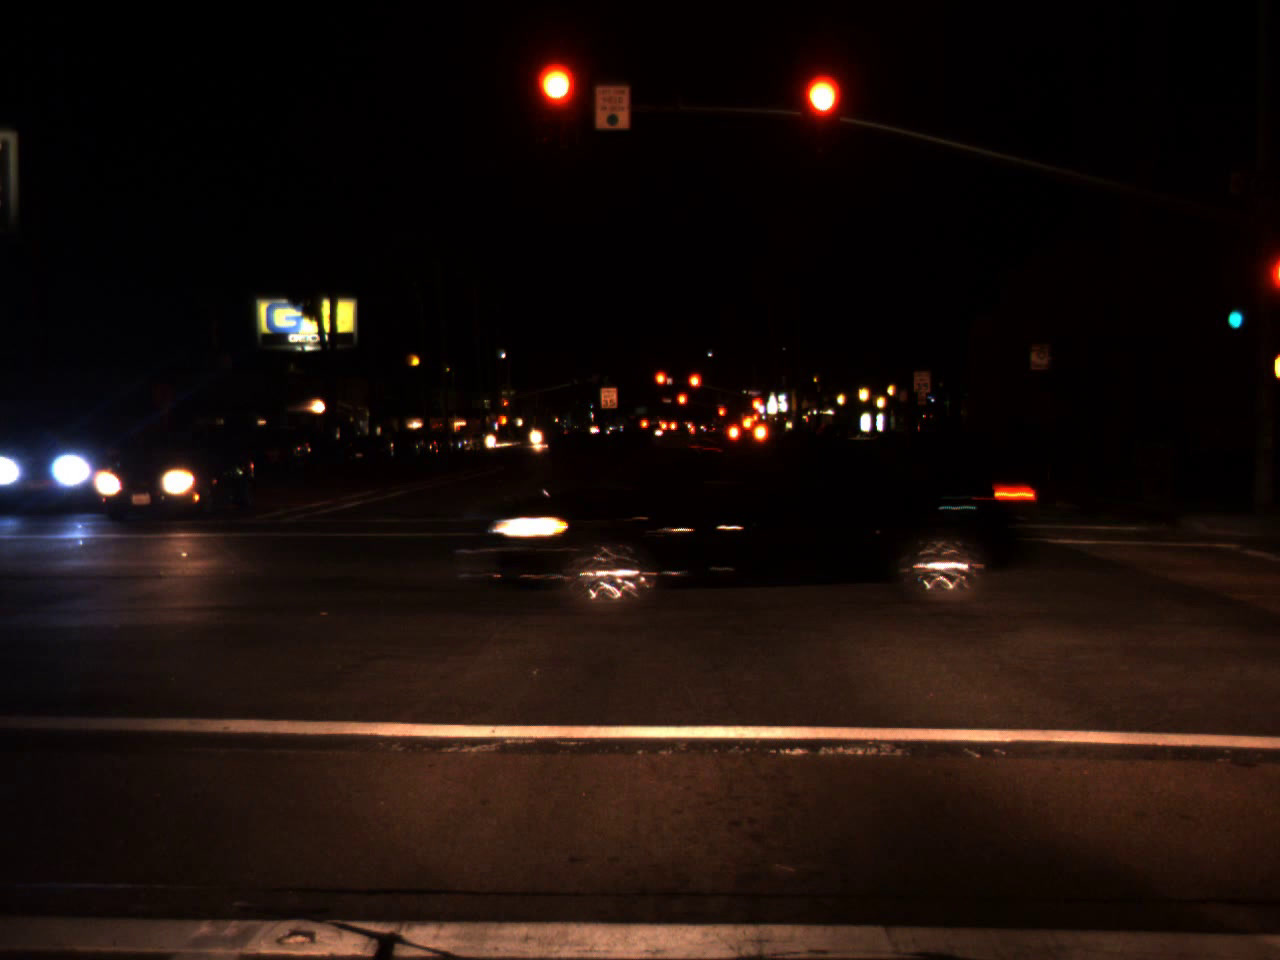stop: (537, 65, 577, 143), (801, 75, 841, 153), (686, 371, 702, 403), (653, 369, 668, 401), (675, 392, 688, 416), (750, 396, 763, 414), (717, 406, 727, 427), (503, 399, 509, 412)
